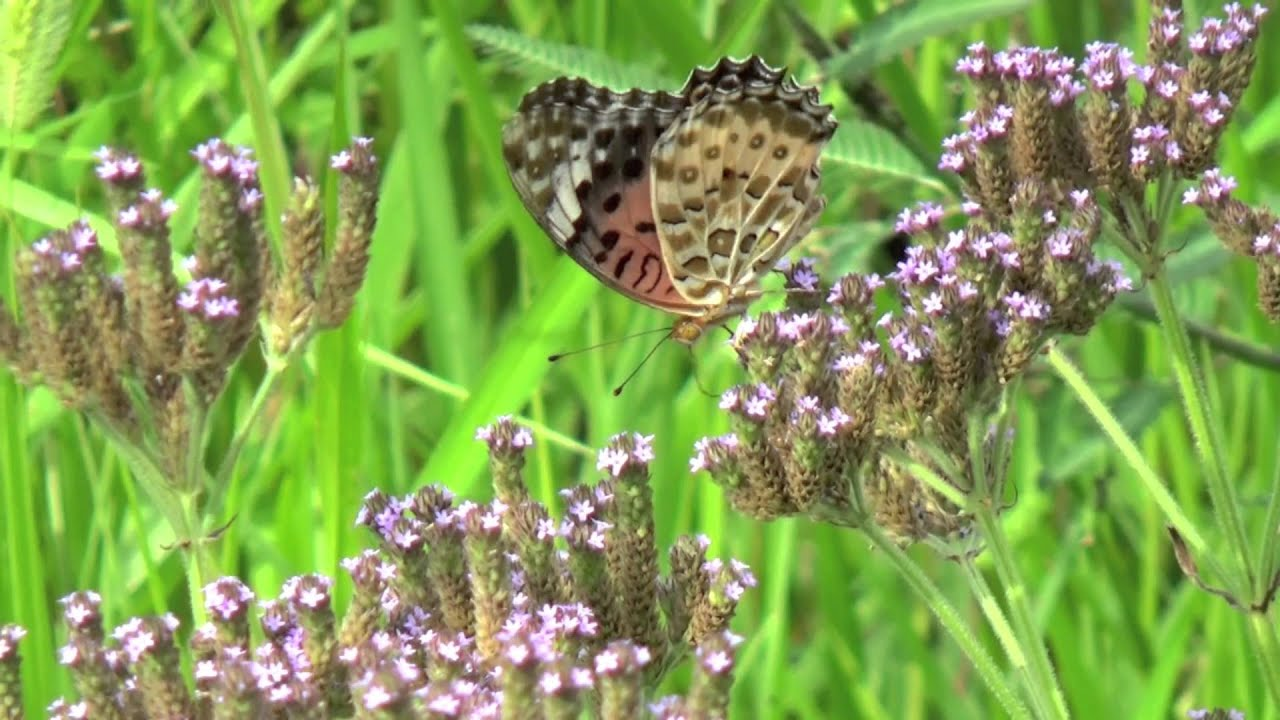Argyreus hyperbius: (491, 44, 850, 406)
butterfly: (493, 46, 852, 408)
